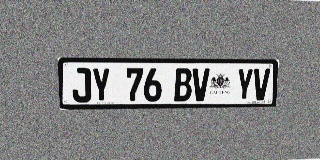6: (144, 68, 162, 102)
7: (125, 68, 143, 102)
B: (174, 68, 192, 101)
J: (71, 68, 91, 103)
V: (192, 68, 210, 101), (252, 68, 270, 100)
Y: (91, 68, 111, 102), (236, 68, 253, 101)
